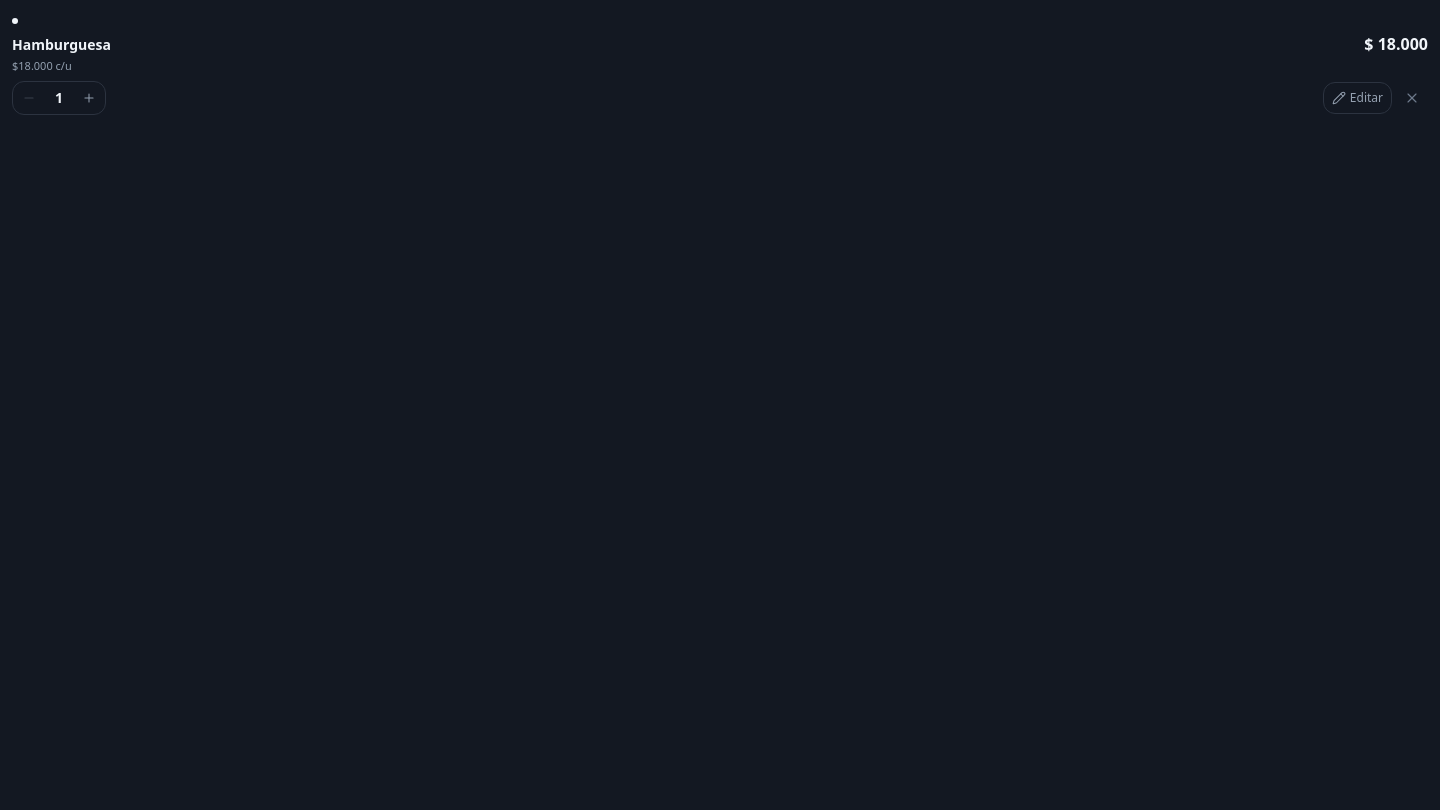
Scenario: línea del carrito › editar abre el campo de nota con su ejemplo dentro
The image size is (1440, 810).
Click the button with aria-label "Editar Hamburguesa": (1357, 98) [1323,82,1392,114]
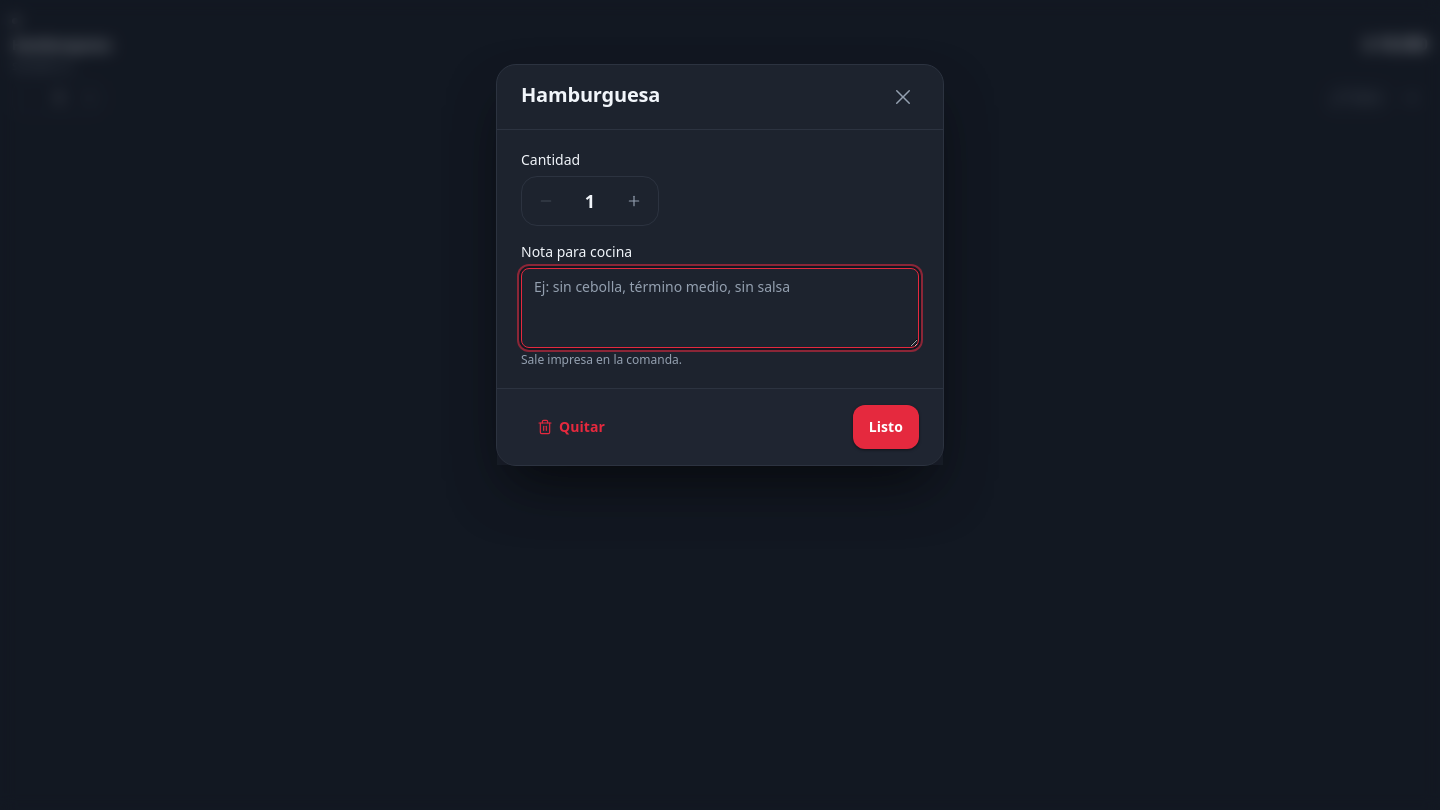
Result: the text box with placeholder "Ej: sin cebolla, término medio, sin salsa" is shown at [521,268,919,348]
